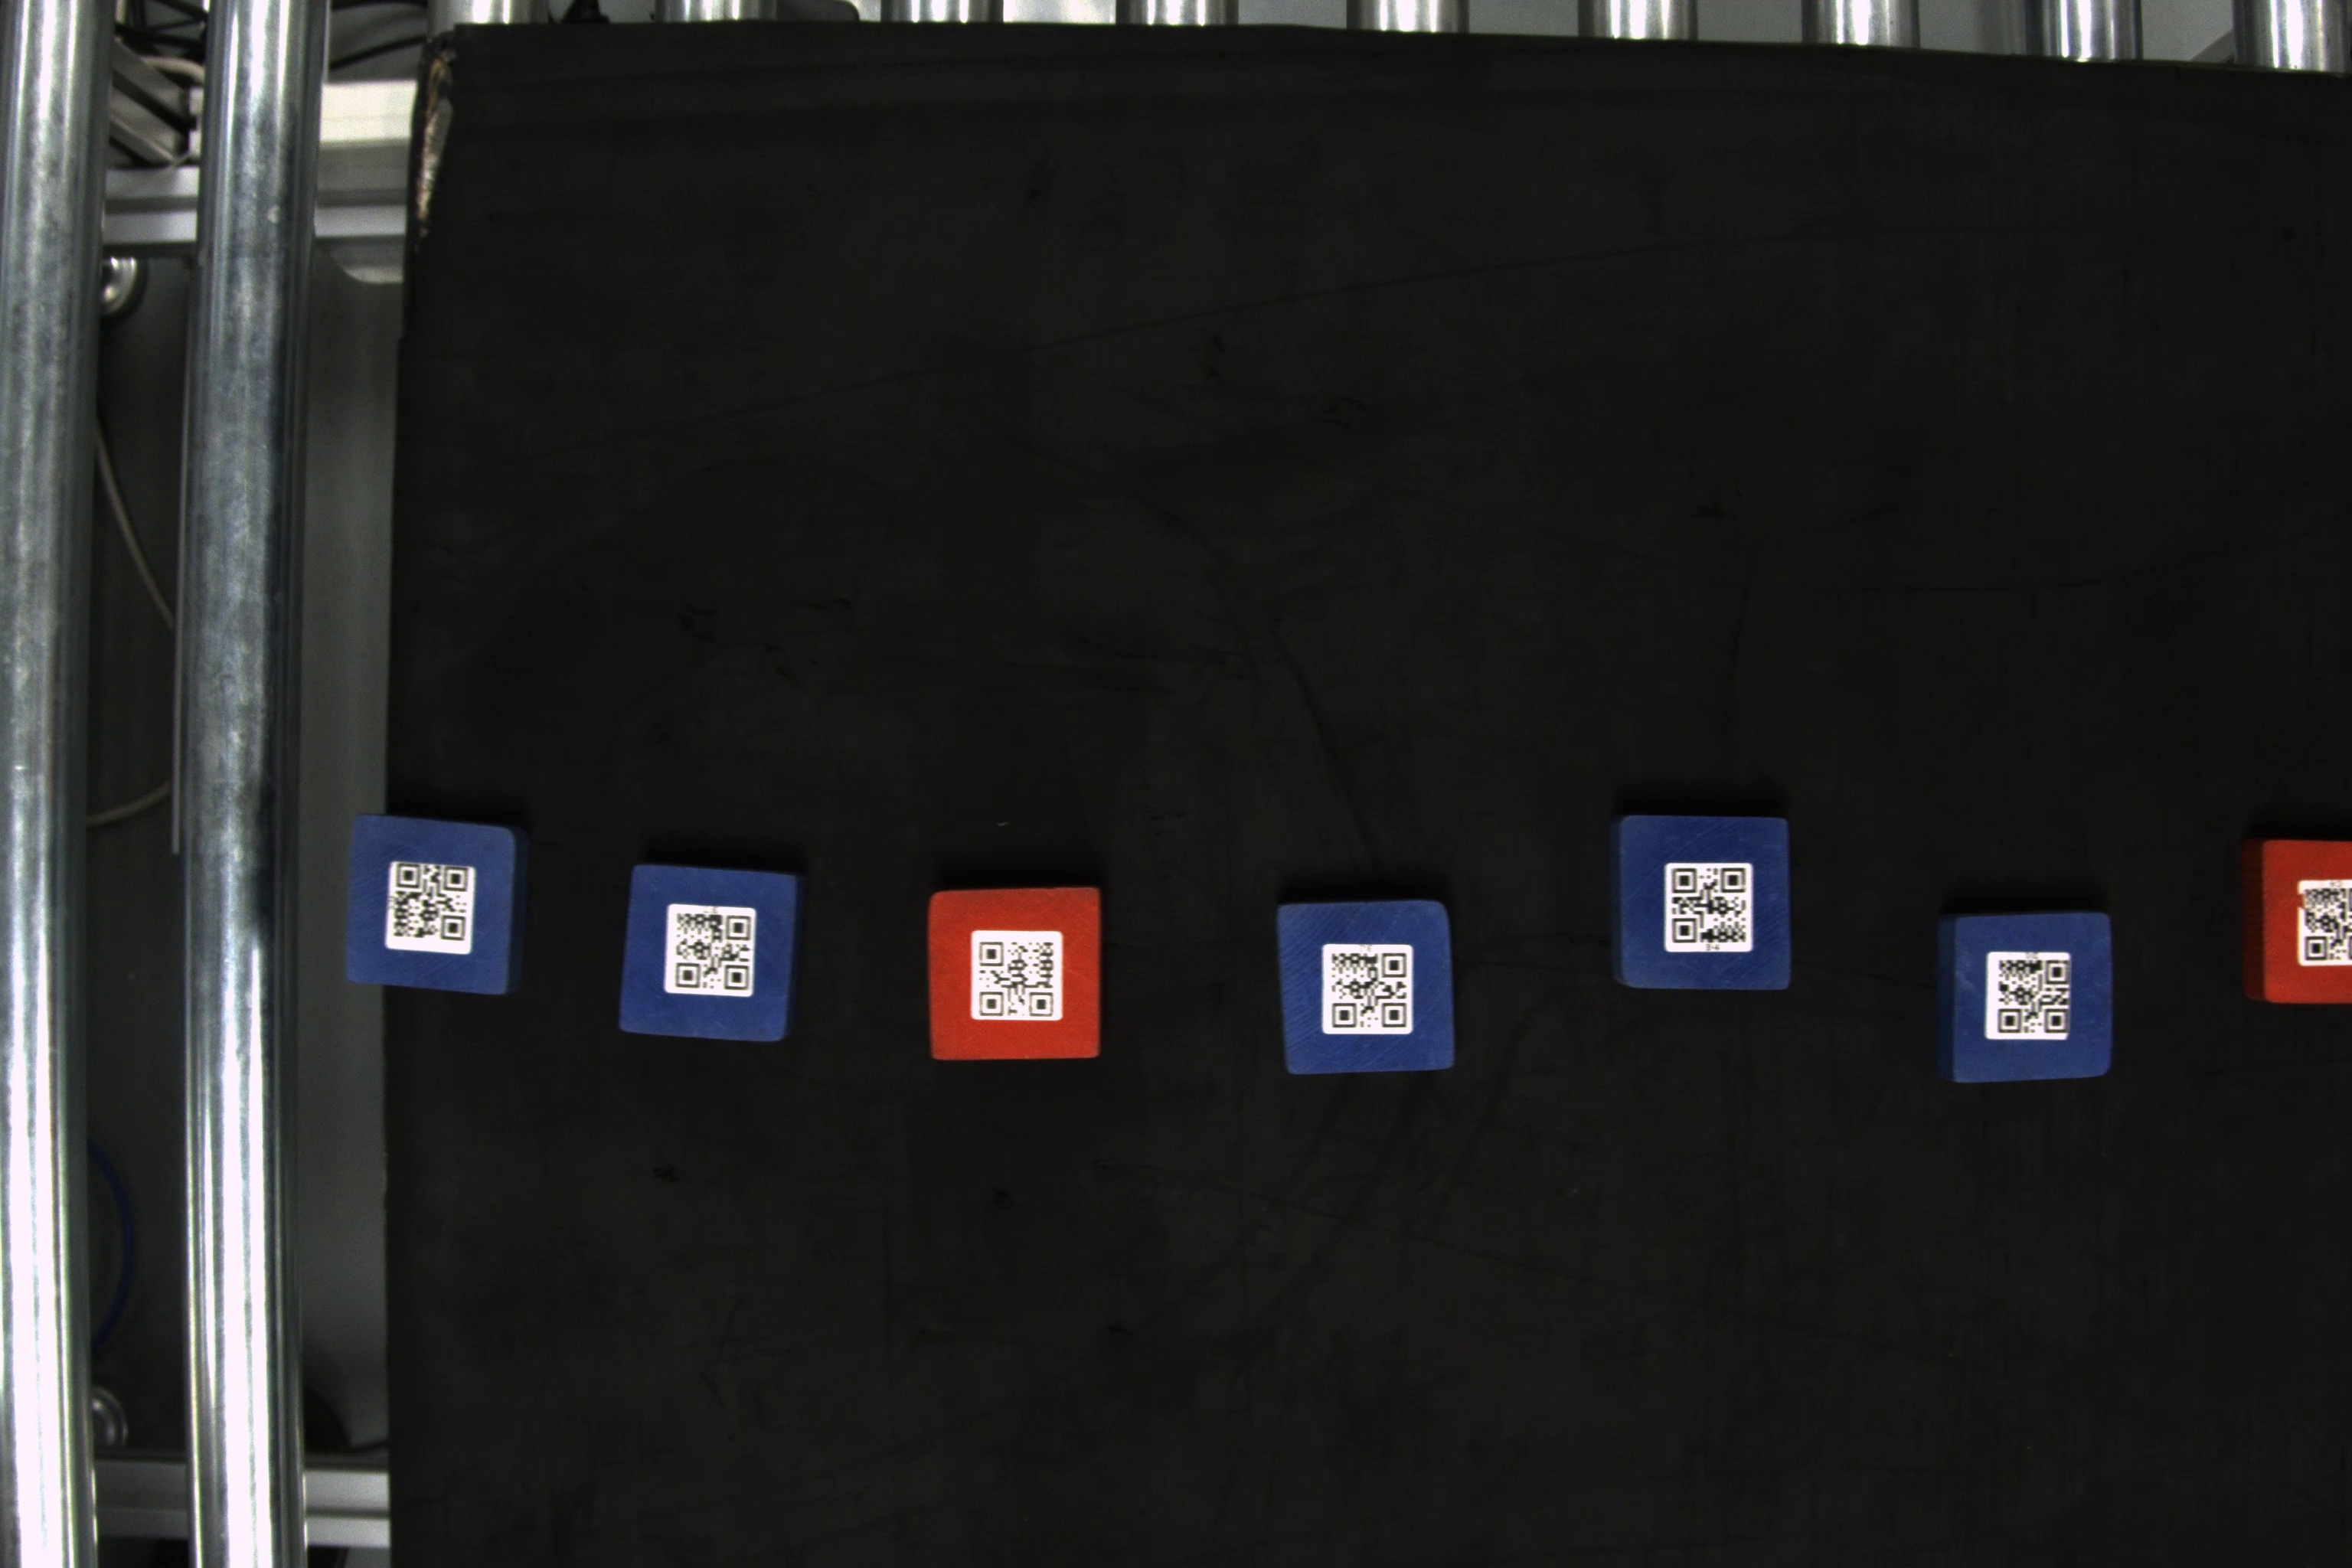wood: (616, 868, 808, 1045), (345, 810, 525, 994), (1934, 906, 2117, 1087), (1613, 815, 1799, 994), (1274, 901, 1458, 1078), (926, 887, 1108, 1057), (2243, 836, 2348, 1006)
